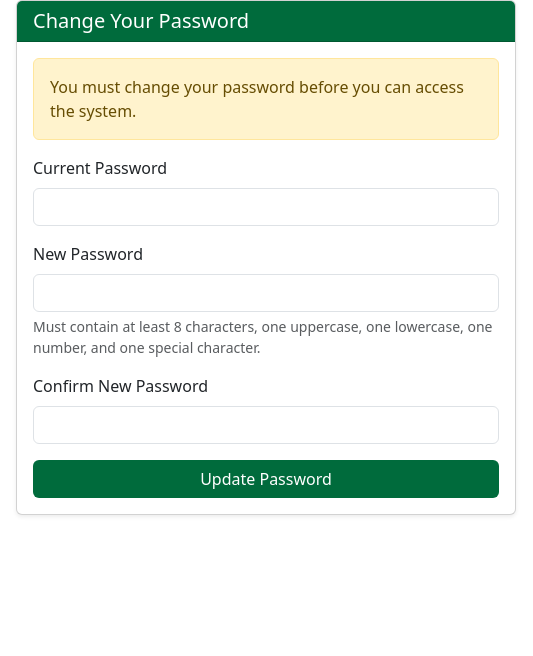
Test: ChangePassword Component › should display API error on failure (e.g. complexity requirements)
Step 1. Type "password123" into the password field labelled "Current Password" → (266, 207), box [33,188,499,226]
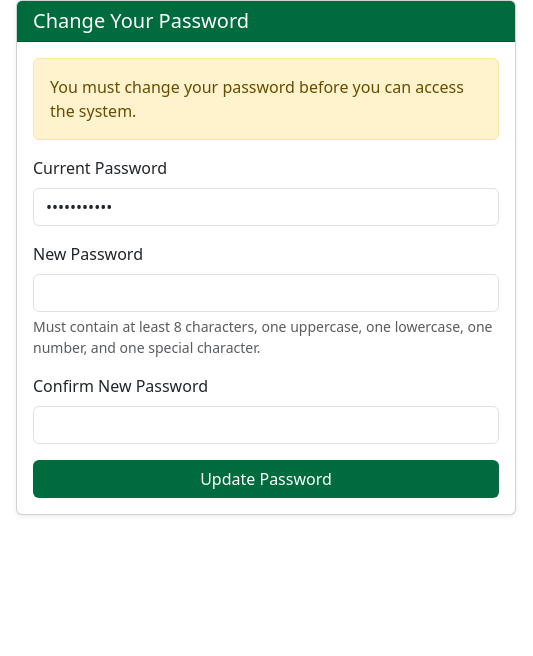
Step 2. Type "weak" into the password field labelled "New Password" → (266, 293), box [33,274,499,312]
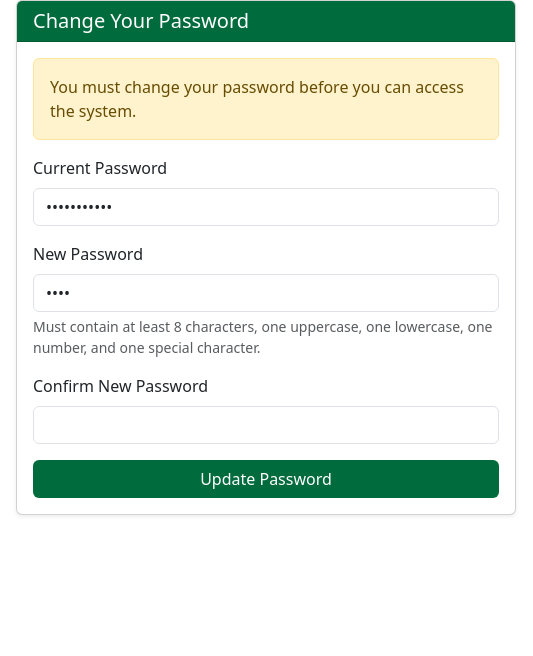
Step 3. Type "weak" into the password field labelled "Confirm New Password" → (266, 425), box [33,406,499,444]
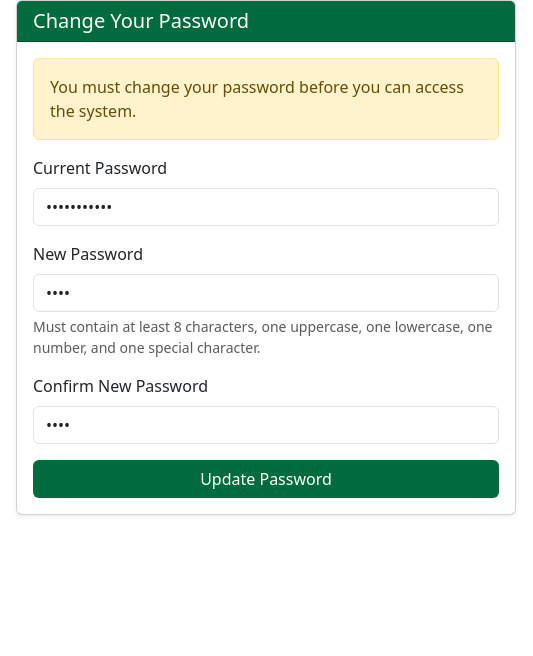
Step 4. Click the button "Update Password" → click(266, 479), box [33,460,499,498]
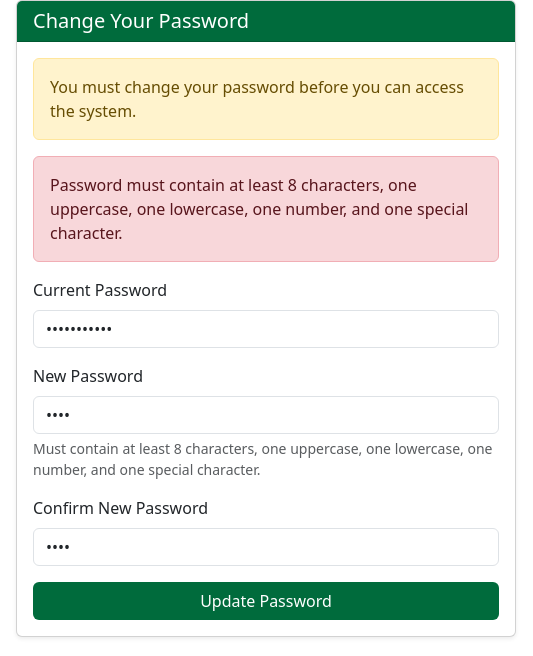
Expected: the text "Password must contain at least 8 characters" is shown, [50,174,468,244]
